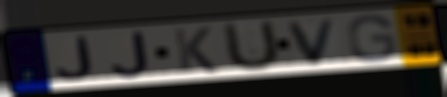G: (345, 13, 399, 64)
J: (109, 30, 153, 80), (54, 35, 96, 83)
K: (170, 26, 221, 75)
U: (222, 18, 283, 75)
V: (285, 16, 340, 68)
